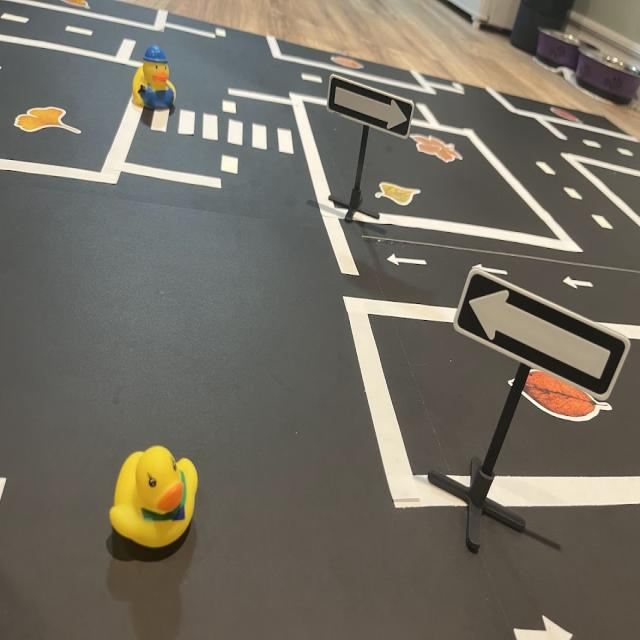duck_regular: (109, 448, 200, 557)
duck_specialty: (132, 42, 179, 111)
road_crosswalk: (146, 105, 298, 161)
sign_oneway_left: (455, 276, 631, 403)
sign_oneway_right: (323, 69, 419, 139)
